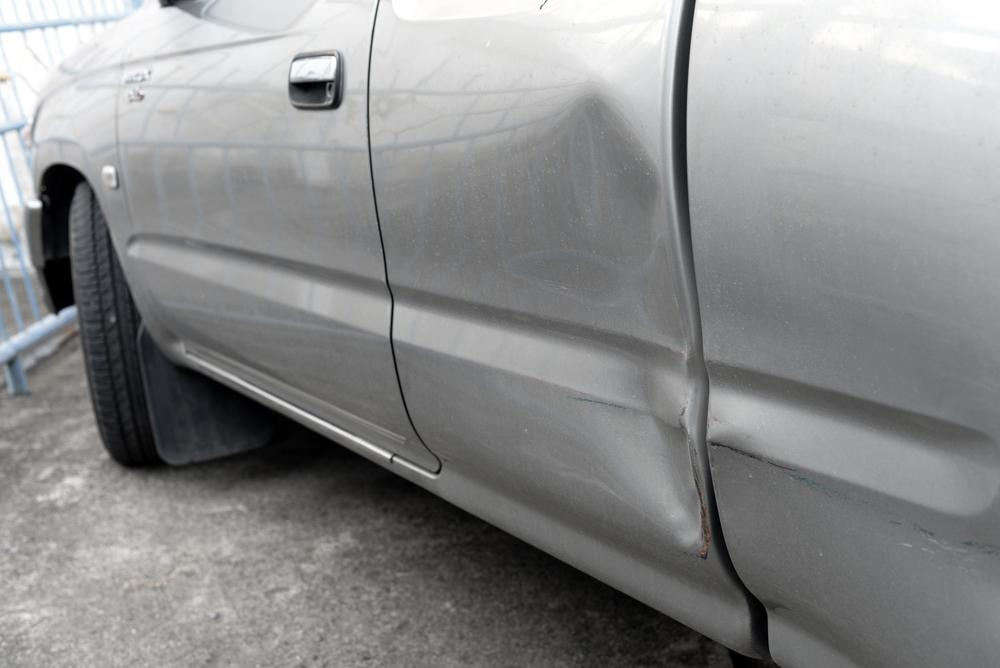dent: (490, 95, 708, 551)
